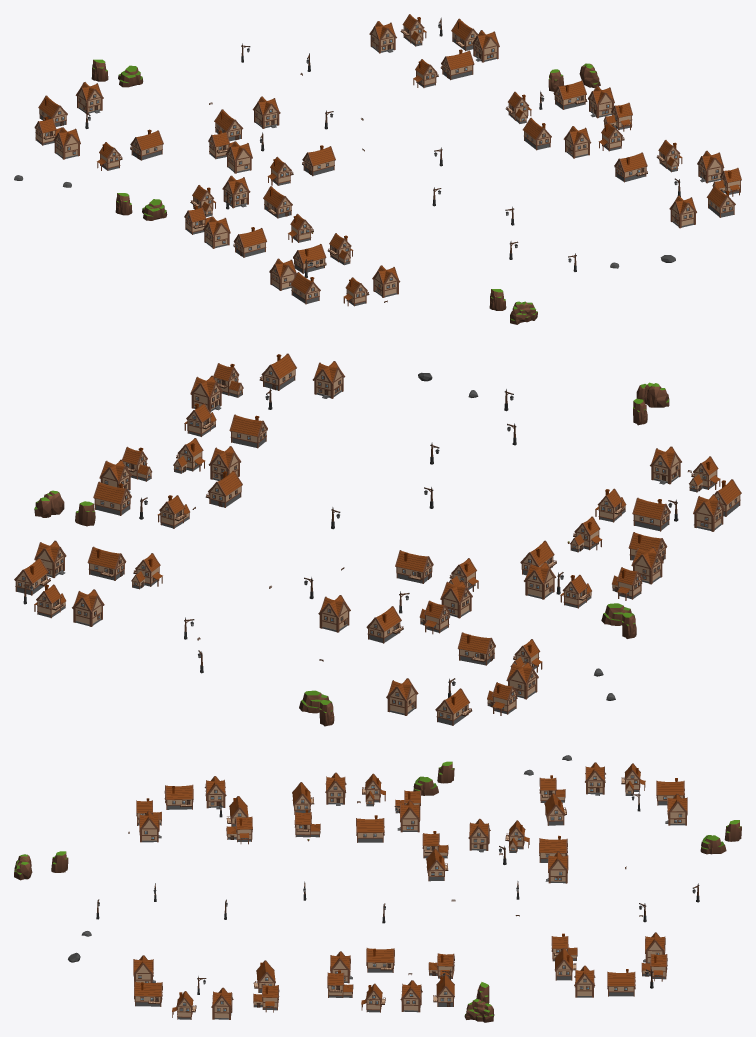
The model's file is Map_Village.fbx.
3 views of the same model, one above another, from view 1: azimuth 30°, elevation 25°; view 2: azimuth 150°, elevation 25°; view 3: azimuth 270°, elevation 25° (orthographic). The views are drawn at different scales.
Visible parts, largest first — view 1: House1_11_, House1_8_, House1_4_, House1_6_, House1_12_, House1_14_, House1_3_, House2_9_, House2_5_, House2_10_, House2_6_, House2_8_ (+25 smaller); view 2: House1_3_, House1_14_, House1_12_, House1_8_, House1_4_, House1_11_, House2_7_, House2_8_, House2_3_, House2_2_, House2_10_, House1_9_ (+32 smaller); view 3: House1_10_, House1_5_, House1_9_, House1_2_, House1_13_, House2_14_, House2_1_, House2_3_, House2_13_, House2_8_, House2_4_, House2_2_ (+29 smaller).
Part boxes in pixels (x1,y1,x2,y2): House1_11_: (440, 49, 474, 80); House1_8_: (302, 145, 335, 176); House1_4_: (130, 129, 163, 160); House1_6_: (233, 227, 266, 257); House1_12_: (614, 152, 647, 182); House1_14_: (553, 80, 587, 109); House1_3_: (293, 244, 326, 273); House2_9_: (472, 30, 499, 62); House2_5_: (203, 216, 230, 248); House2_10_: (369, 21, 396, 53); House2_6_: (53, 127, 80, 159); House2_8_: (252, 96, 280, 128); House1_3_: (632, 497, 670, 531); House1_14_: (93, 481, 131, 515); House1_12_: (229, 414, 267, 448); House1_8_: (395, 550, 433, 583); House1_4_: (457, 632, 495, 665); House1_11_: (87, 546, 126, 580); House2_7_: (312, 361, 345, 398); House2_8_: (318, 595, 350, 632); House2_3_: (650, 446, 681, 484); House2_2_: (693, 494, 724, 531); House2_10_: (72, 589, 104, 626); House1_9_: (259, 353, 296, 390); House1_10_: (607, 969, 635, 996); House1_5_: (356, 815, 384, 842); House1_9_: (134, 981, 162, 1006); House1_2_: (164, 784, 193, 809); House1_13_: (366, 948, 394, 972); House2_14_: (468, 818, 490, 852); House2_1_: (665, 793, 687, 825); House2_3_: (139, 810, 161, 842); House2_13_: (211, 987, 233, 1019); House2_8_: (545, 851, 568, 883); House2_4_: (397, 800, 420, 832); House2_2_: (204, 776, 226, 809).
Size of the model in its own units: 33029 by 1482 by 38120.
Materials: 2 (2 with a texture image).
